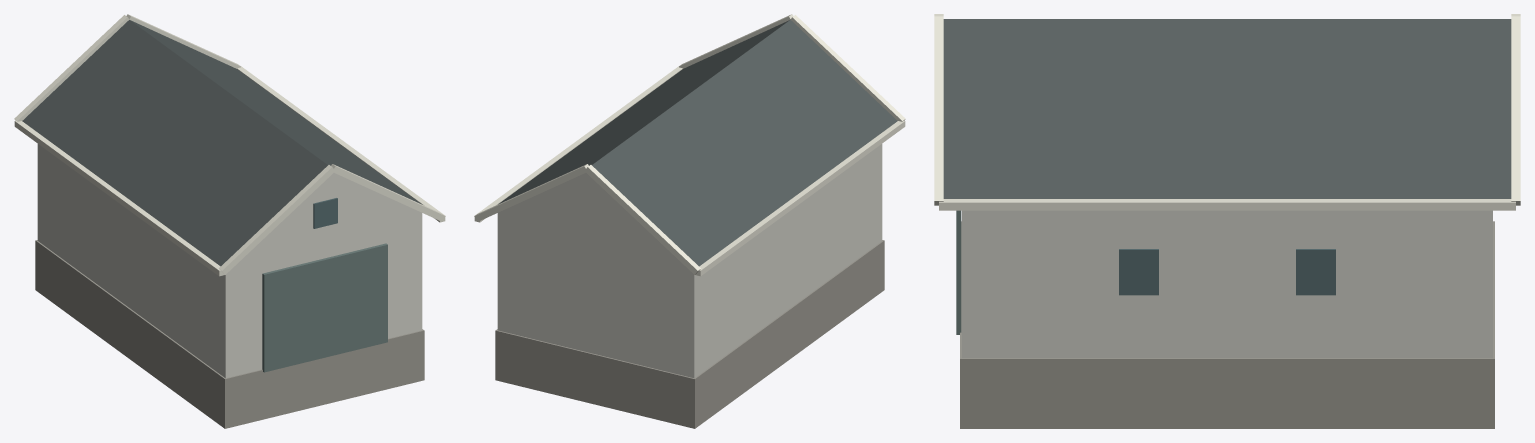
File: boathouse_far.glb
3 renders of one model, left to right at view 1: azimuth 30°, elevation 25°; view 2: azimuth 150°, elevation 25°; view 3: azimuth 270°, elevation 25°, orthographic. The views are drawn at different scales.
Parts seen in each view (by area): view 1: boathouse_far; view 2: boathouse_far; view 3: boathouse_far.
Part boxes in pixels (bbox=[...]): boathouse_far: bbox=[14, 14, 445, 428]; boathouse_far: bbox=[474, 14, 905, 428]; boathouse_far: bbox=[934, 14, 1520, 428].
Size of the model in its own units: 6.66 by 6.89 by 10.61.
